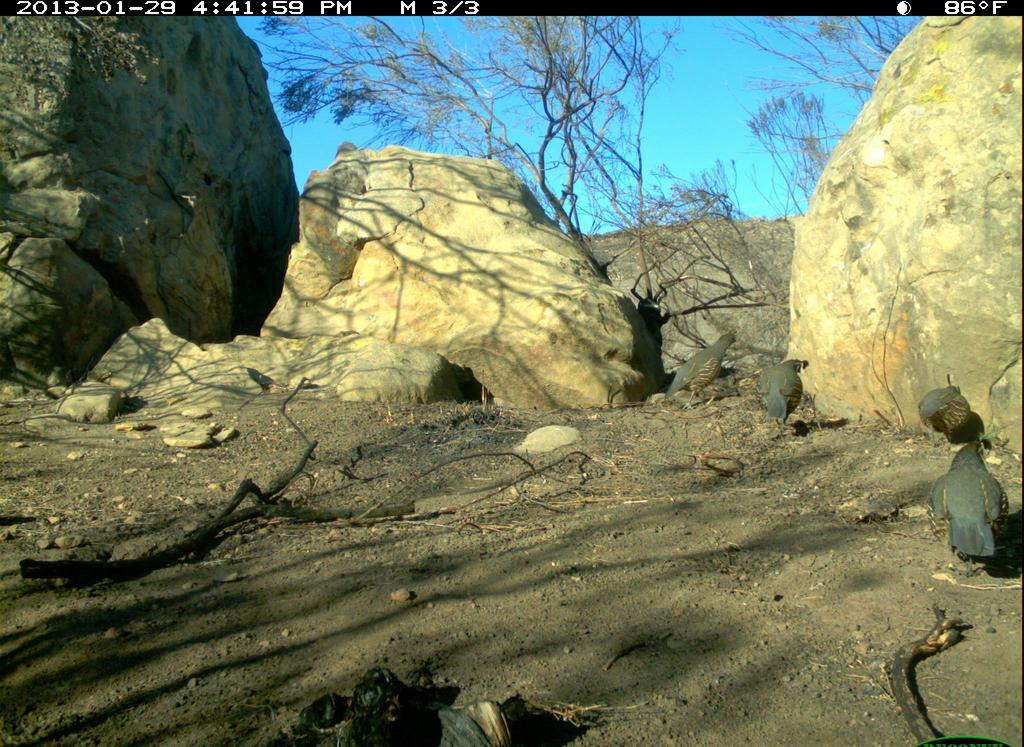bird: (926, 437, 1011, 561), (662, 329, 741, 405), (754, 353, 817, 434), (918, 390, 982, 441)
